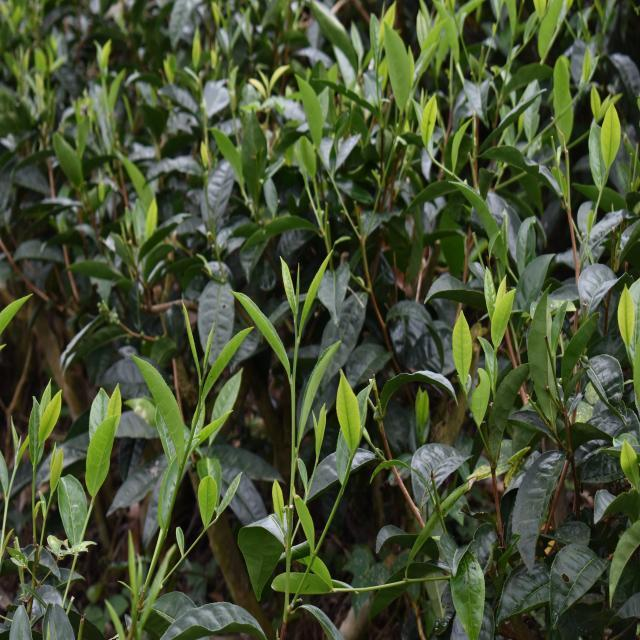Stem: (346, 459, 353, 471), (195, 409, 202, 418), (199, 530, 207, 537), (426, 150, 433, 158), (294, 339, 298, 351), (4, 498, 8, 510), (598, 191, 603, 199), (33, 465, 36, 474)
